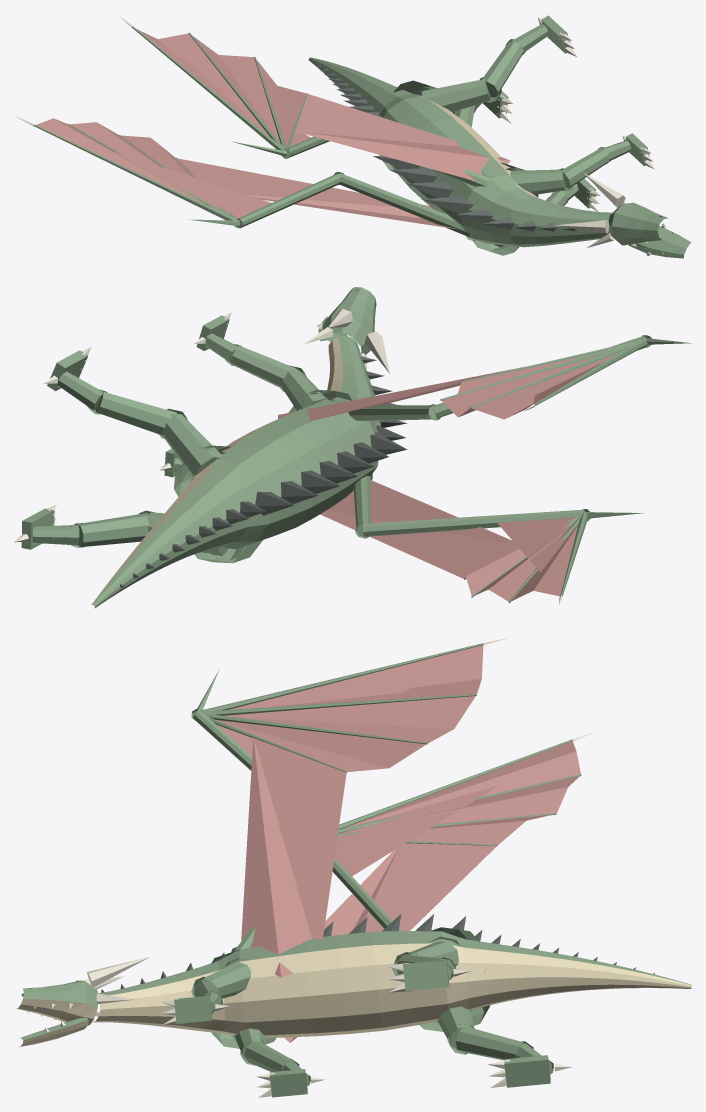
Rendered from dragons-and-wyverns-western-dragon-slain-eb01a329__36705.glb.
The picture shows the model from 3 angles, top to bottom: view 1: azimuth 30°, elevation 25°; view 2: azimuth 150°, elevation 25°; view 3: azimuth 270°, elevation 25°; orthographic projection. The views are drawn at different scales.
Visible parts, largest first — view 1: western-dragon-slain; view 2: western-dragon-slain; view 3: western-dragon-slain.
Boxes of the visible parts, x1,y1,x2,y2 form: western-dragon-slain: (15,15,691,258); western-dragon-slain: (14,287,691,607); western-dragon-slain: (16,637,691,1097).
Size of the model in its own units: 6.43 by 2.82 by 6.76.
